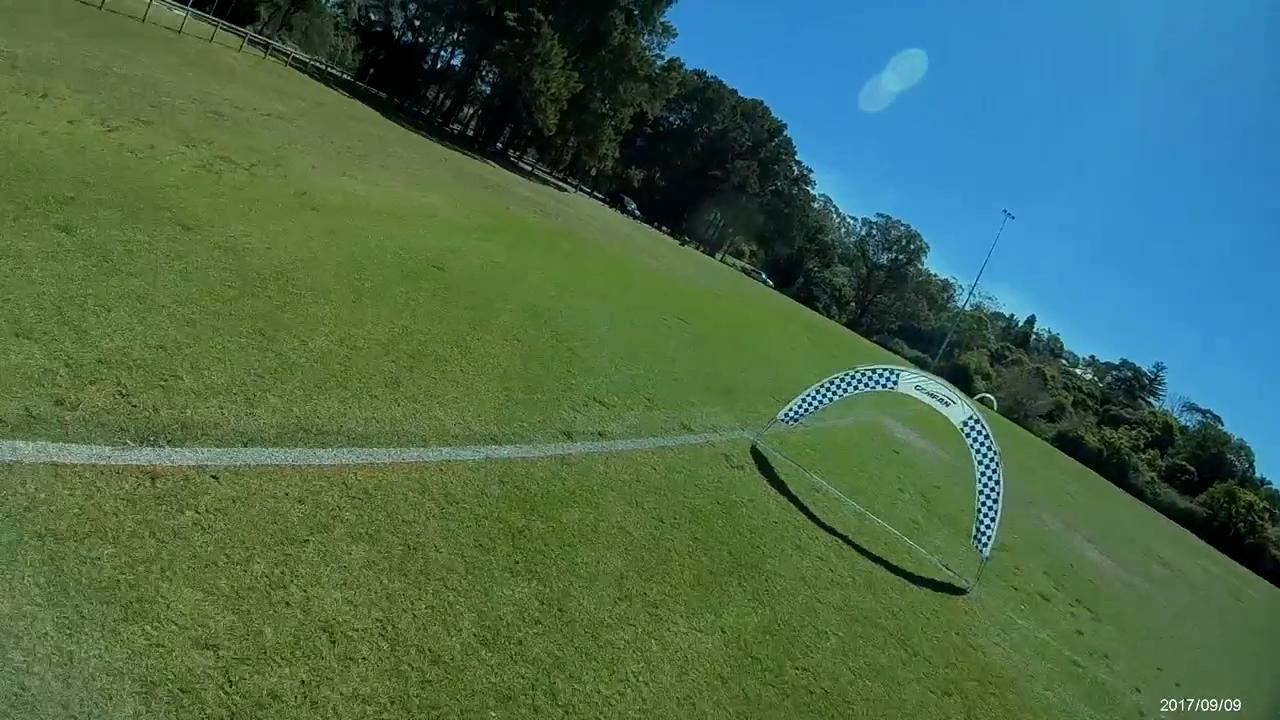gate: (771, 362, 1003, 559), (972, 390, 1000, 410)
